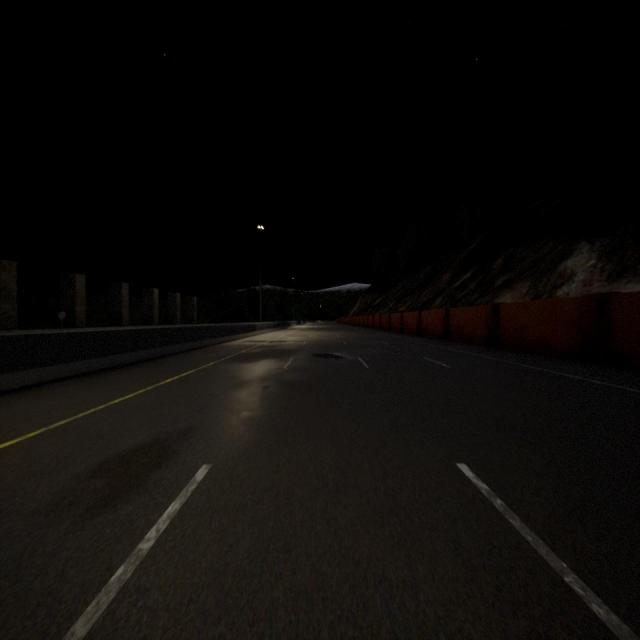Traffic_Signs: (56, 310, 67, 322)
